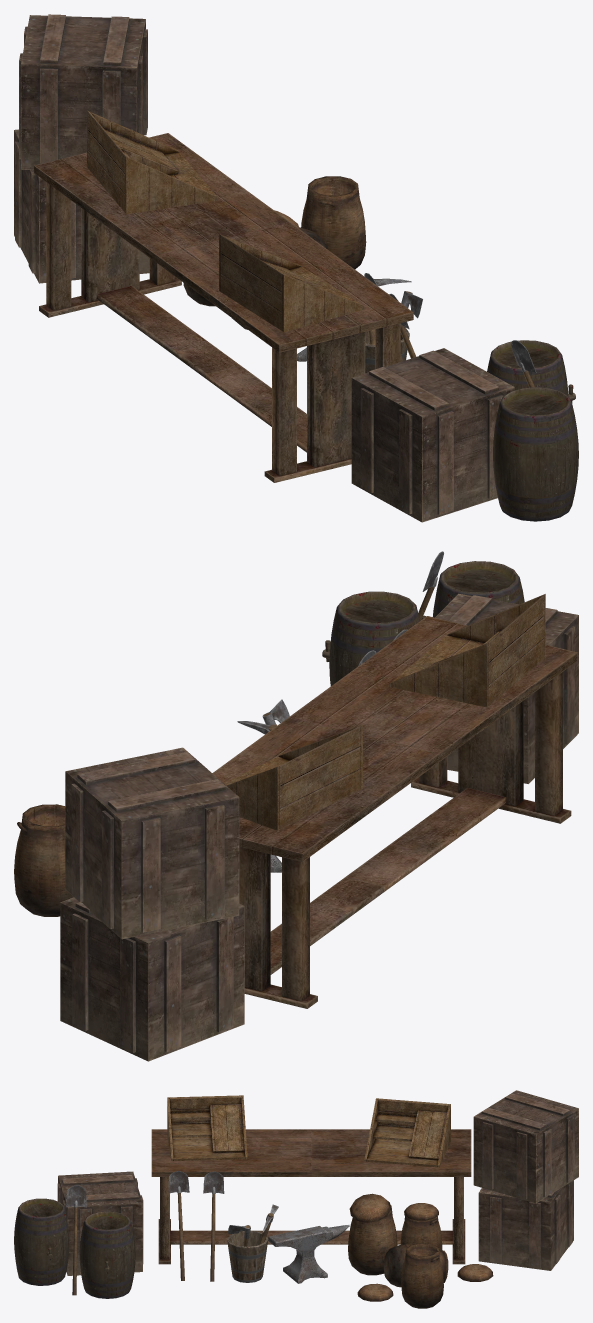
Rendered from NTsho_Stand_A-transformed.glb.
3 views of the same model, one above another, from view 1: azimuth 30°, elevation 25°; view 2: azimuth 150°, elevation 25°; view 3: azimuth 270°, elevation 25° (orthographic). The views are drawn at different scales.
Parts seen in each view (by area): view 1: default; view 2: default; view 3: default.
Boxes of the visible parts, bbox=[...] form: default: bbox=[14, 14, 578, 522]; default: bbox=[14, 551, 578, 1061]; default: bbox=[14, 1090, 578, 1308].
Bounding box in the file's own units: 1.78 × 1.27 × 4.61.
Materials: 8 (8 with a texture image).
